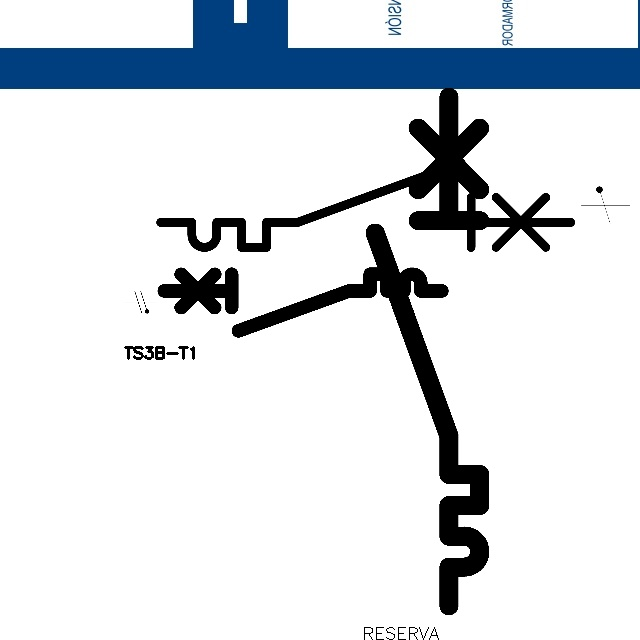interruptor_termomagnetico: (362, 84, 493, 619), (150, 152, 581, 258), (157, 267, 449, 338)
